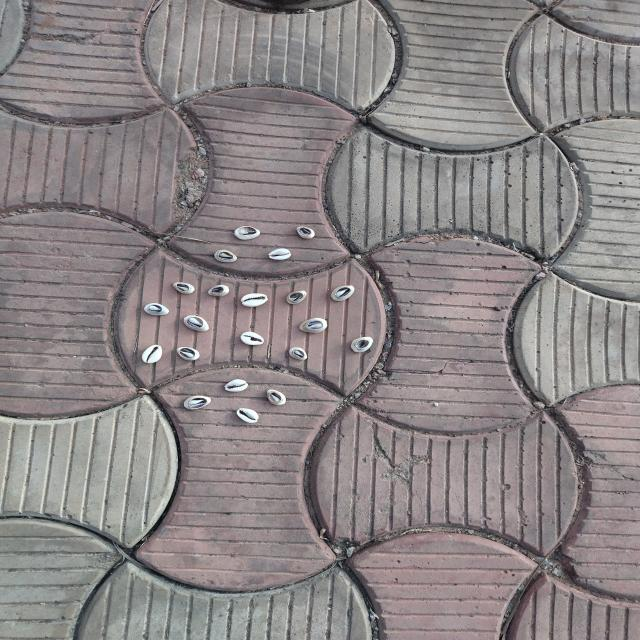facedown: (182, 313, 210, 335), (298, 315, 329, 334), (175, 344, 202, 364), (349, 334, 376, 354), (329, 284, 357, 303), (232, 224, 262, 241), (183, 395, 212, 412), (142, 301, 172, 317), (264, 388, 289, 407), (286, 346, 313, 363), (212, 248, 238, 264), (285, 289, 309, 305), (172, 281, 197, 296), (294, 224, 316, 241), (206, 284, 232, 298)
faceup: (240, 328, 266, 348), (141, 343, 164, 364), (240, 292, 270, 308), (222, 378, 252, 394), (236, 407, 261, 425), (267, 246, 292, 262)
